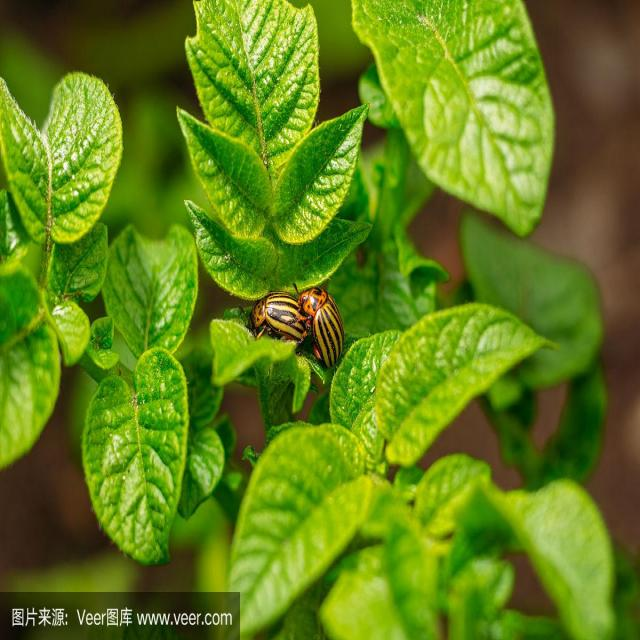ShuCaiHuaBanChong-Grown-: (296, 278, 356, 380), (246, 284, 314, 366)
